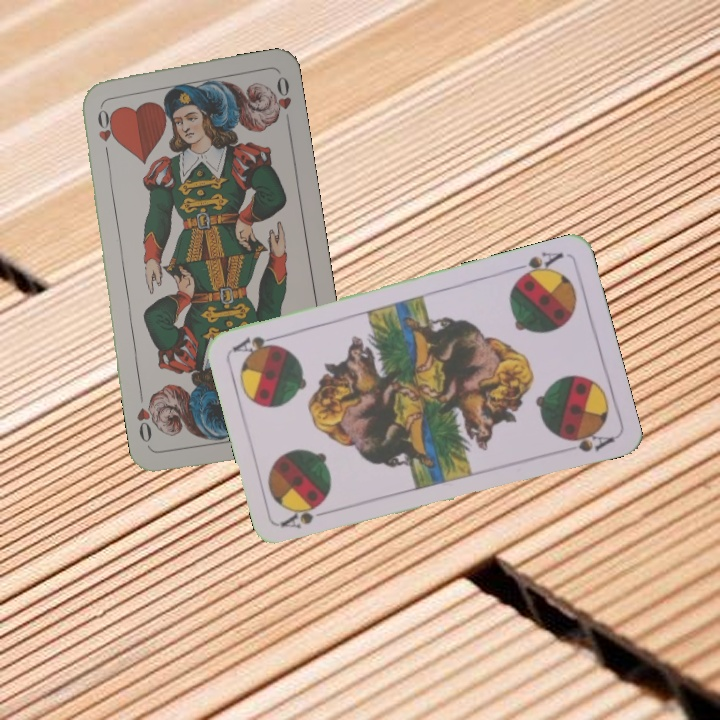HO: (93, 101, 114, 160)
SA: (509, 248, 566, 283), (278, 501, 336, 531)
